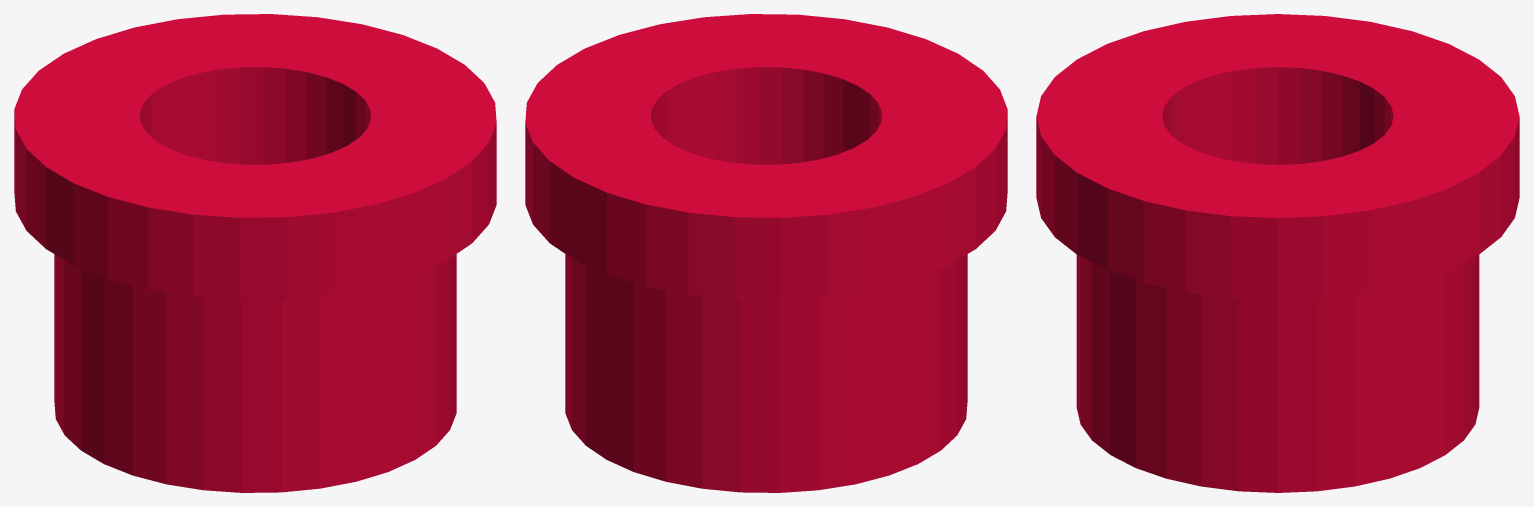
File: bulkhead2.glb
The picture shows the model from 3 angles, left to right: view 1: azimuth 30°, elevation 25°; view 2: azimuth 150°, elevation 25°; view 3: azimuth 270°, elevation 25°; orthographic projection.
Parts seen in each view (by area): view 1: bulkhead; view 2: bulkhead; view 3: bulkhead.
Part boxes in pixels (bbox=[...]): bulkhead: bbox=[14, 14, 496, 492]; bulkhead: bbox=[525, 14, 1007, 492]; bulkhead: bbox=[1036, 14, 1519, 492].
Bounding box in the file's own units: 24 × 16 × 24.
